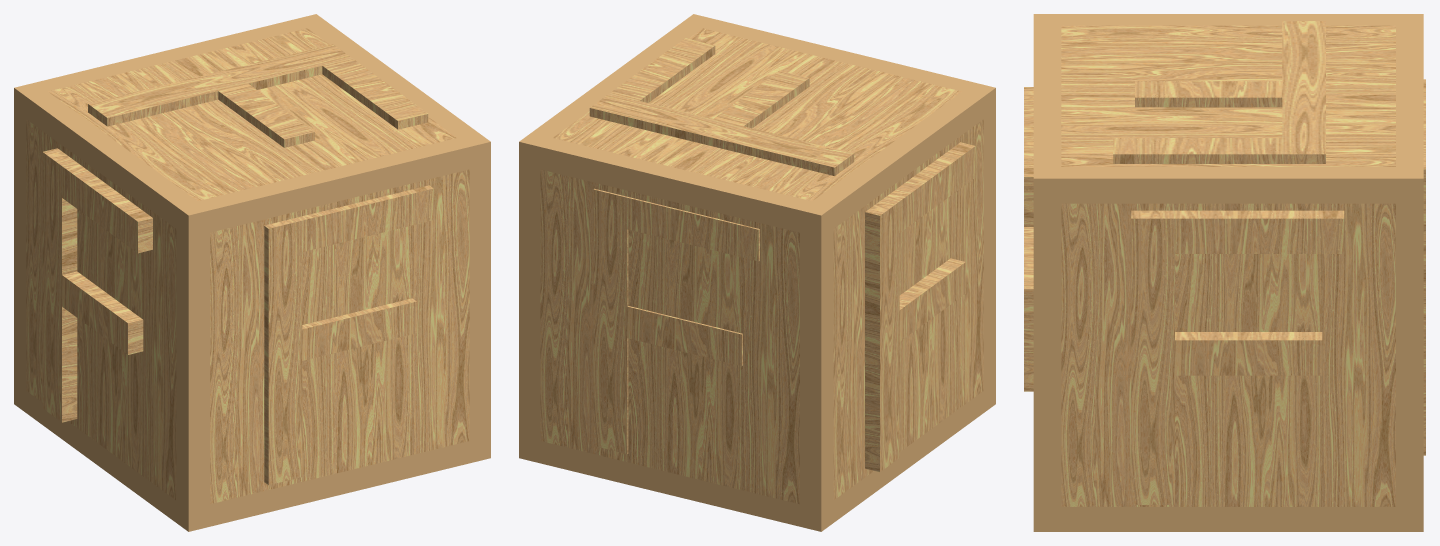
The model's file is Block F.fbx.
3 views of the same model, side by side, from view 1: azimuth 30°, elevation 25°; view 2: azimuth 150°, elevation 25°; view 3: azimuth 270°, elevation 25° (orthographic). The views are drawn at different scales.
Parts seen in each view (by area): view 1: Box, FRONT, LEFT, TOP; view 2: Box, BACK, LEFT, TOP; view 3: Box, RIGHT, TOP, FRONT, BACK.
Part boxes in pixels (x1=…): Box: x1=14, y1=14, x2=490, y2=531; FRONT: x1=264, y1=185, x2=433, y2=485; LEFT: x1=42, y1=148, x2=152, y2=422; TOP: x1=88, y1=44, x2=428, y2=147; Box: x1=519, y1=14, x2=995, y2=531; BACK: x1=593, y1=188, x2=759, y2=453; LEFT: x1=865, y1=142, x2=975, y2=471; TOP: x1=589, y1=38, x2=854, y2=175; Box: x1=1033, y1=14, x2=1423, y2=531; RIGHT: x1=1131, y1=210, x2=1344, y2=504; TOP: x1=1113, y1=21, x2=1325, y2=163; FRONT: x1=1024, y1=87, x2=1033, y2=391; BACK: x1=1423, y1=79, x2=1425, y2=455.
Bounding box in the file's own units: 1.1 × 1.04 × 1.03.
Materials: 2 (2 with a texture image).
